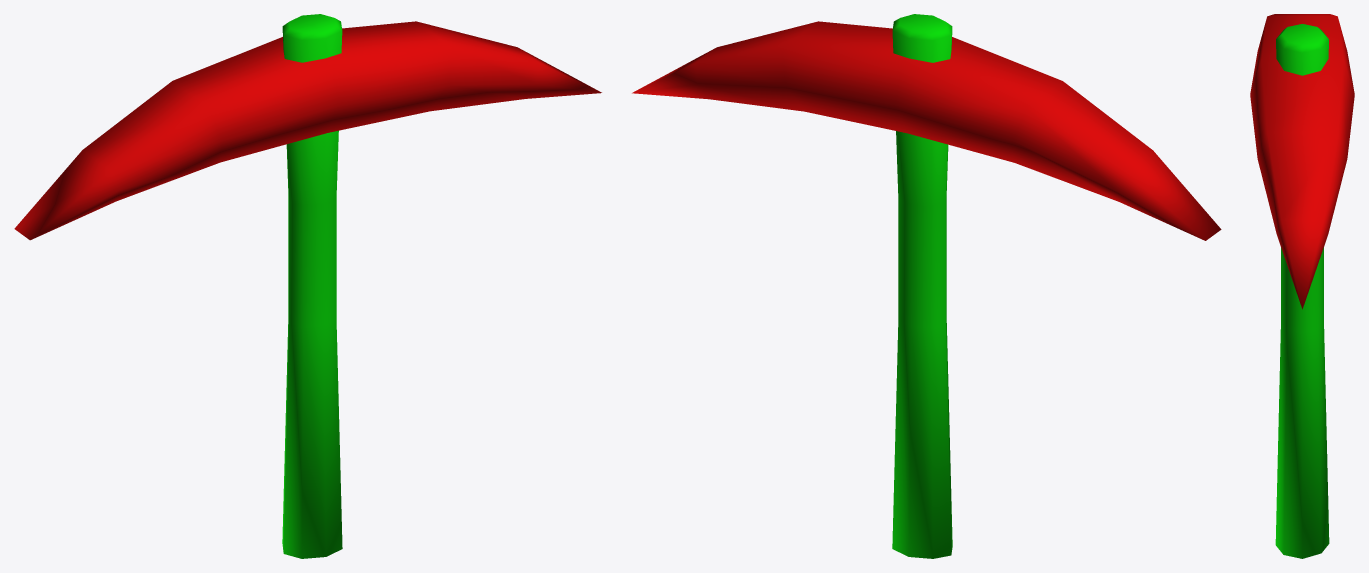
Rendered from Pickaxe.fbx.
The picture shows the model from 3 angles, left to right: view 1: azimuth 30°, elevation 25°; view 2: azimuth 150°, elevation 25°; view 3: azimuth 270°, elevation 25°; orthographic projection. The views are drawn at different scales.
Parts seen in each view (by area): view 1: Pickaxe; view 2: Pickaxe; view 3: Pickaxe.
Part boxes in pixels (x1,y1,x2,y2): Pickaxe: (14, 14, 601, 558); Pickaxe: (632, 14, 1221, 558); Pickaxe: (1250, 14, 1354, 558).
Size of the model in its own units: 116 by 18.49 by 101.
